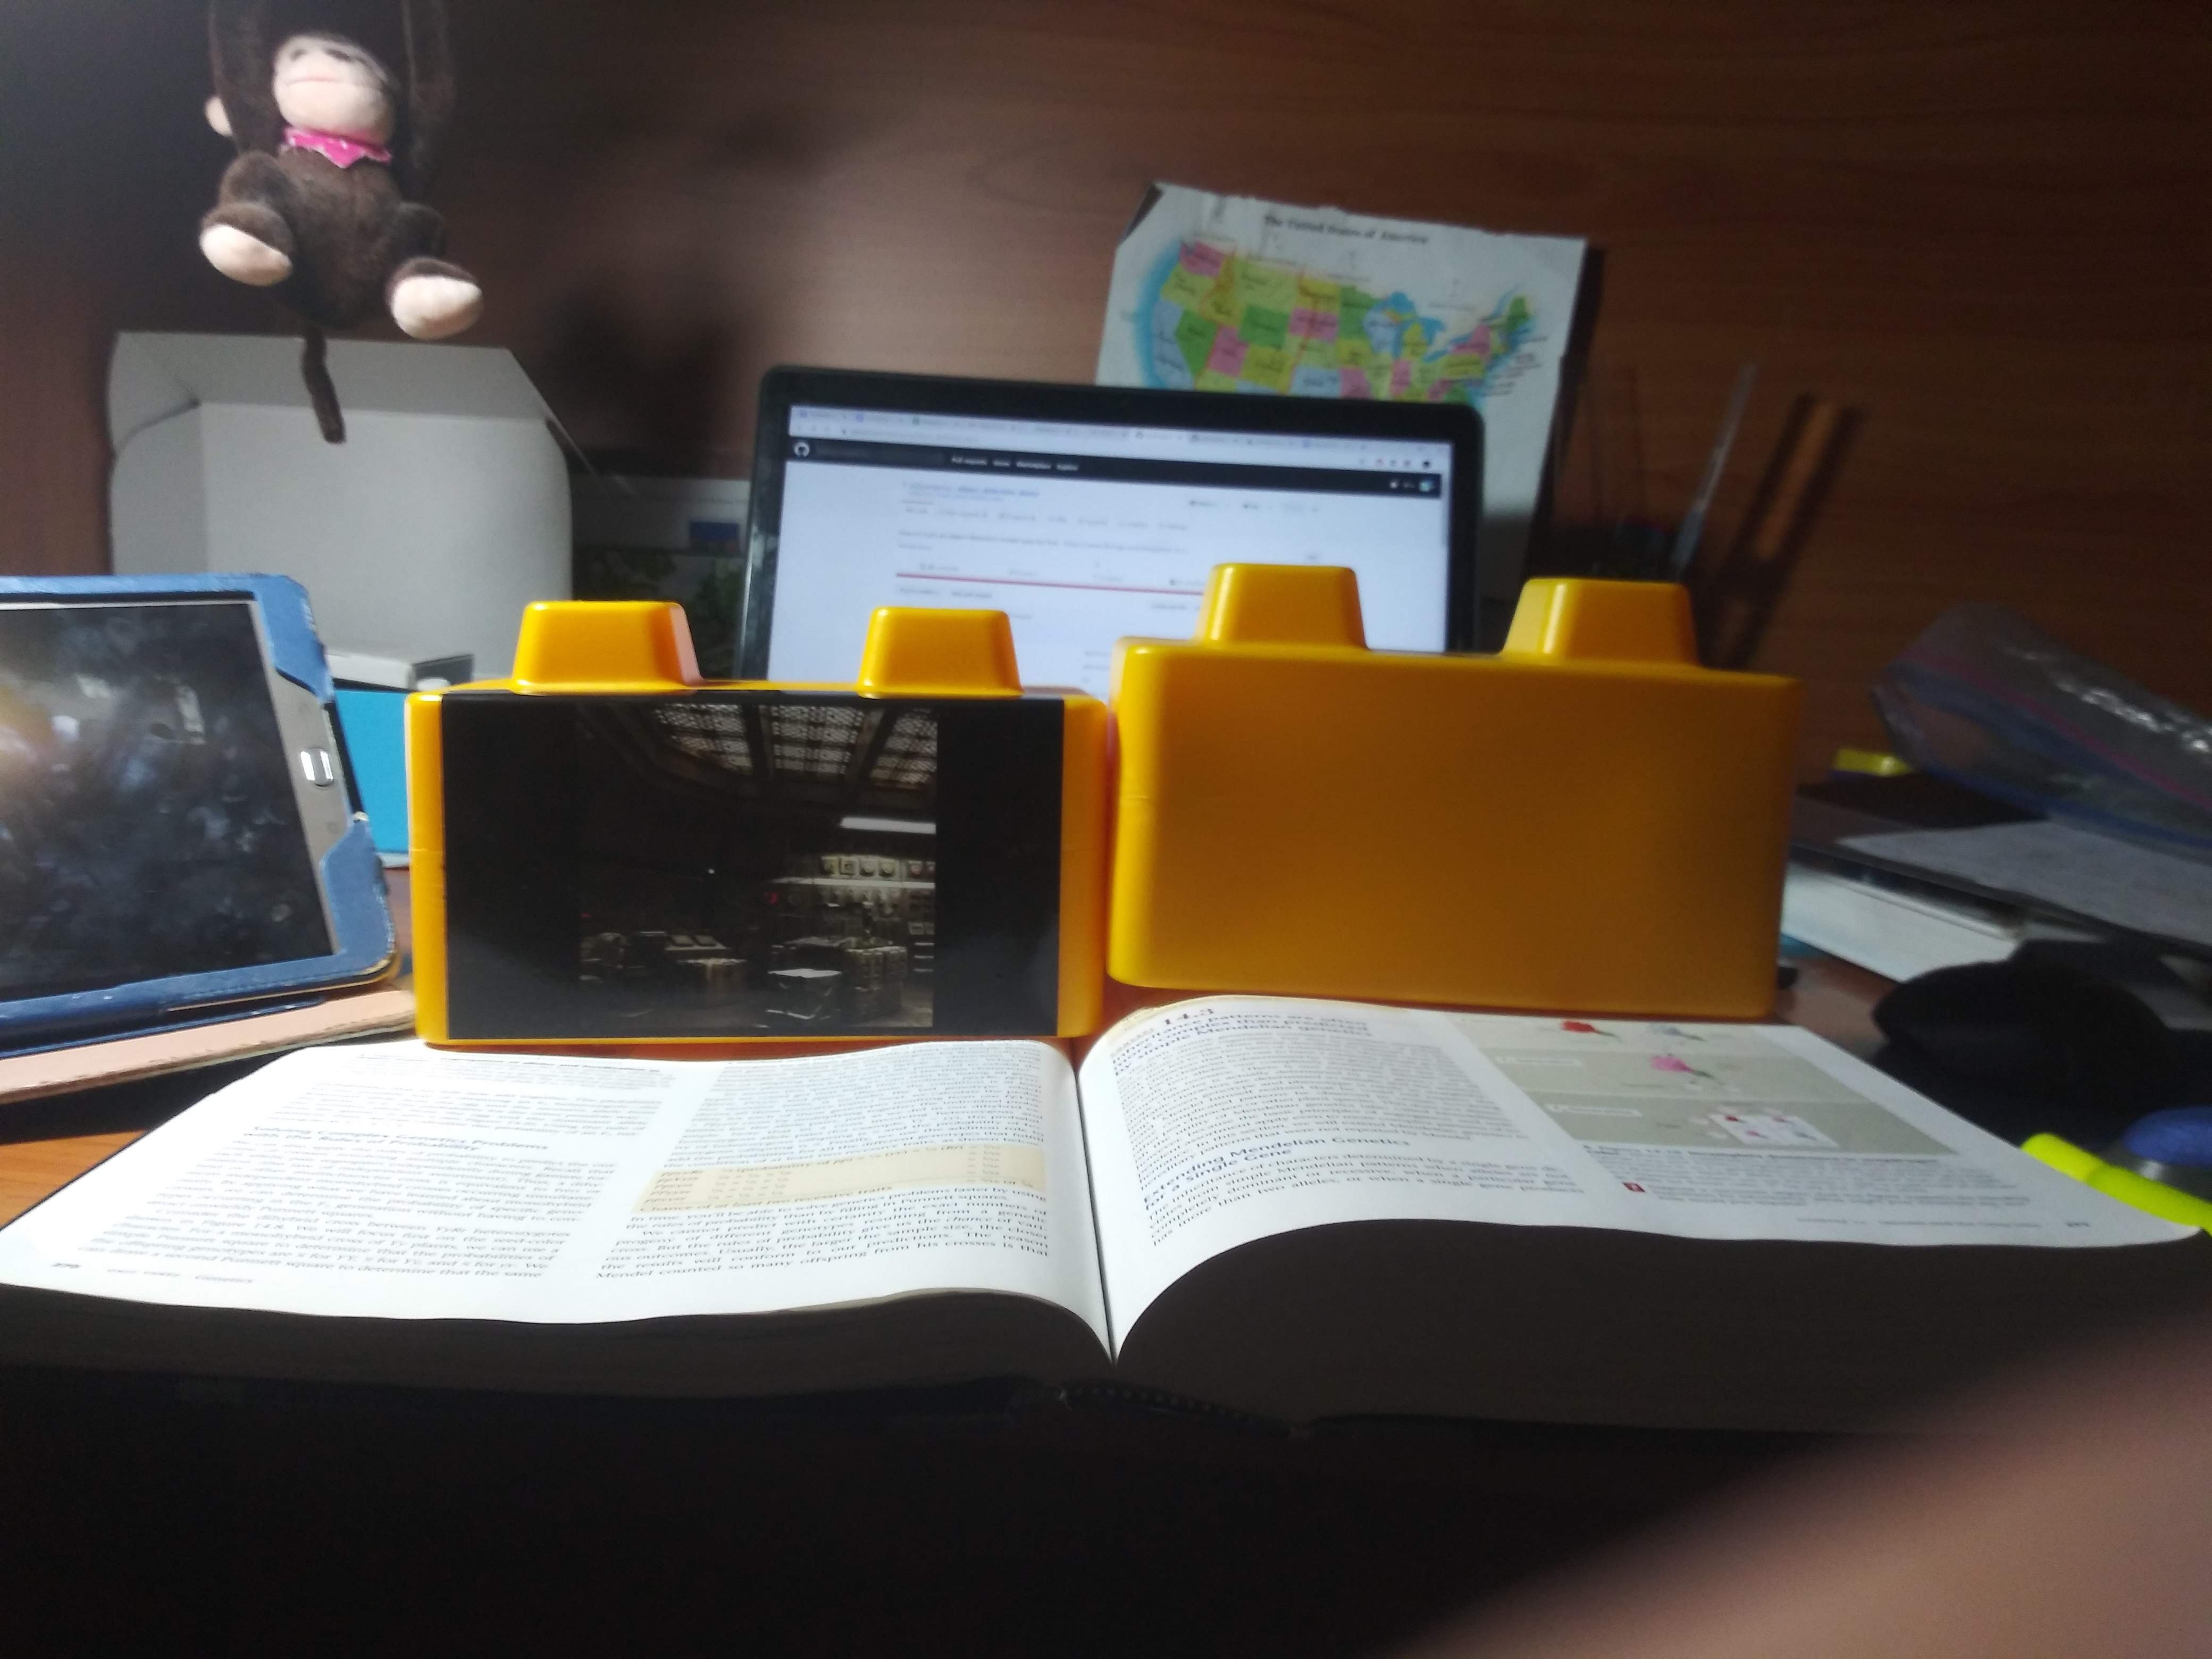skystone: (415, 645, 1087, 1033)
stone: (1118, 610, 1777, 1009)
